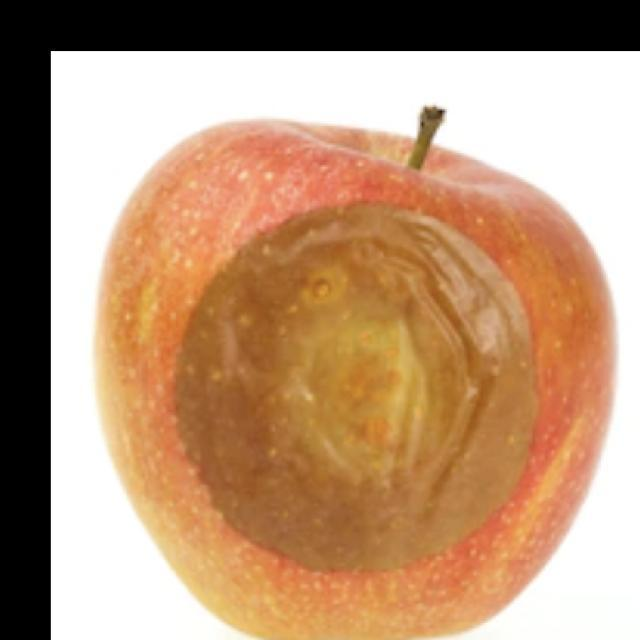Rotten: (94, 113, 611, 640)
